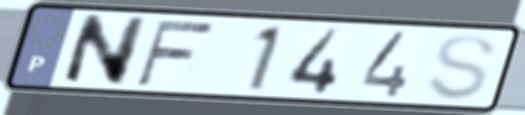1: (244, 23, 288, 93)
4: (283, 25, 344, 97), (359, 29, 411, 100)
F: (132, 17, 220, 87)
N: (57, 12, 152, 88)
S: (423, 32, 501, 104)
